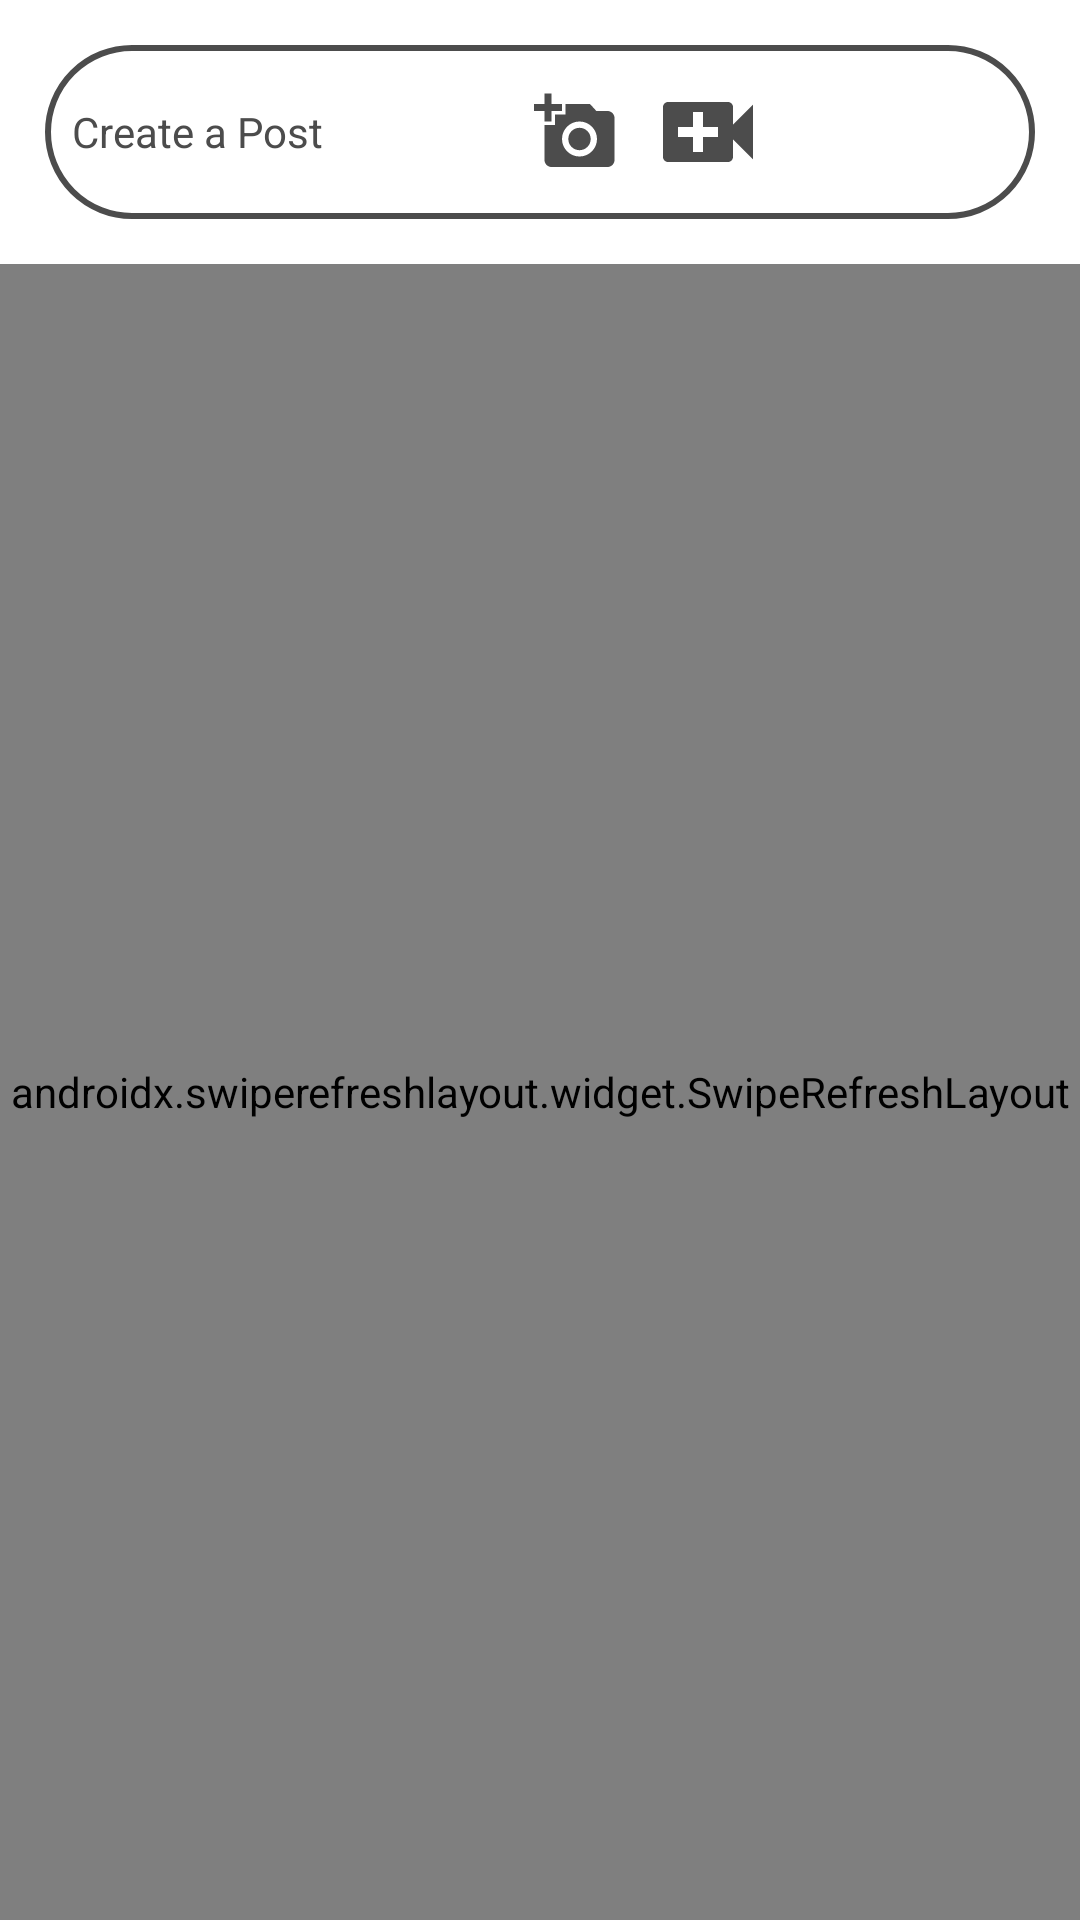

Icons on this 1080 x 1920 Android screen, each with the point to tap as [x,y]:
add photo: [574,130]
video call: [708,132]
